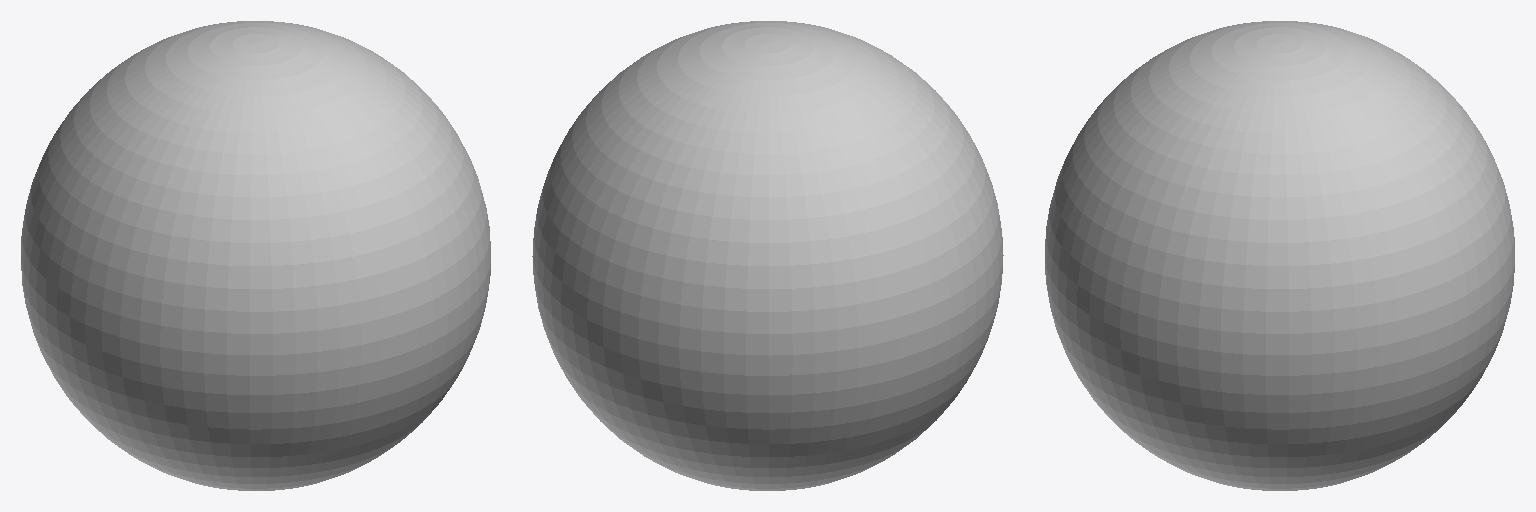
The model's file is Earth.obj.
The picture shows the model from 3 angles: view 1: azimuth 30°, elevation 25°; view 2: azimuth 150°, elevation 25°; view 3: azimuth 270°, elevation 25°; orthographic projection.
Bounding box in the file's own units: 28.9 × 28.92 × 28.9.